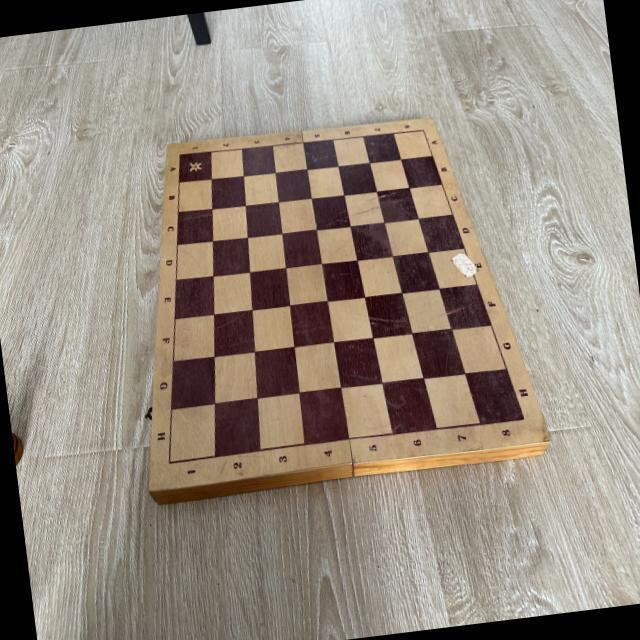chess-table-corners: (162, 452, 175, 472), (516, 411, 530, 426), (418, 124, 428, 136), (176, 150, 183, 158)
